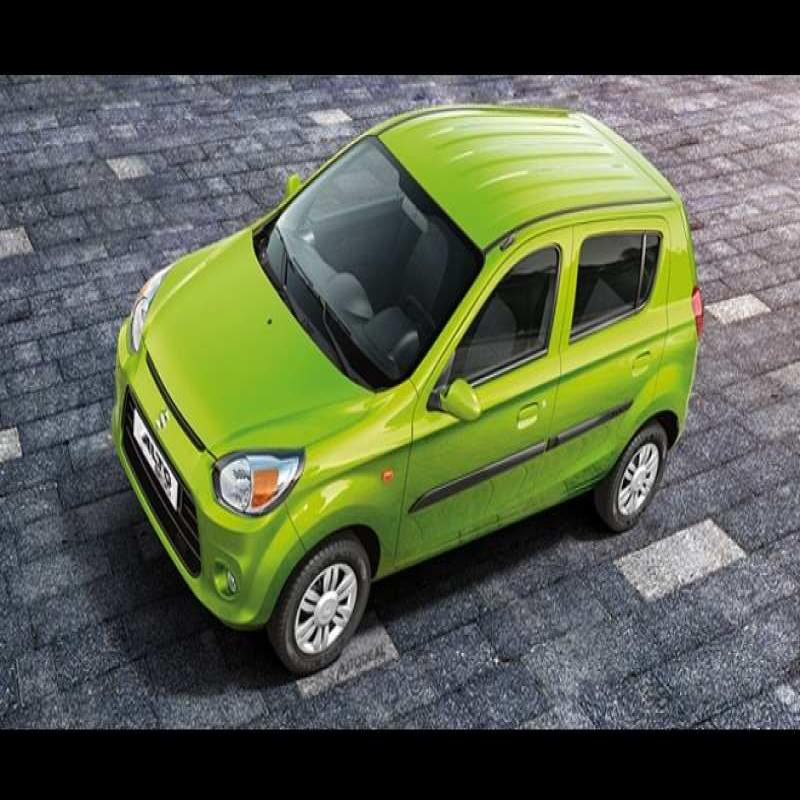car: (81, 97, 718, 646)
